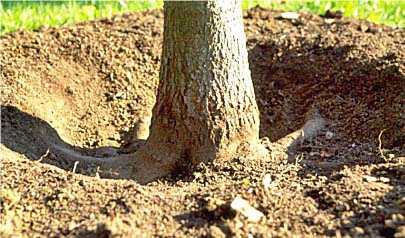dirt: (2, 34, 141, 232), (269, 12, 403, 174), (142, 178, 403, 235)
tree: (143, 2, 267, 174)
